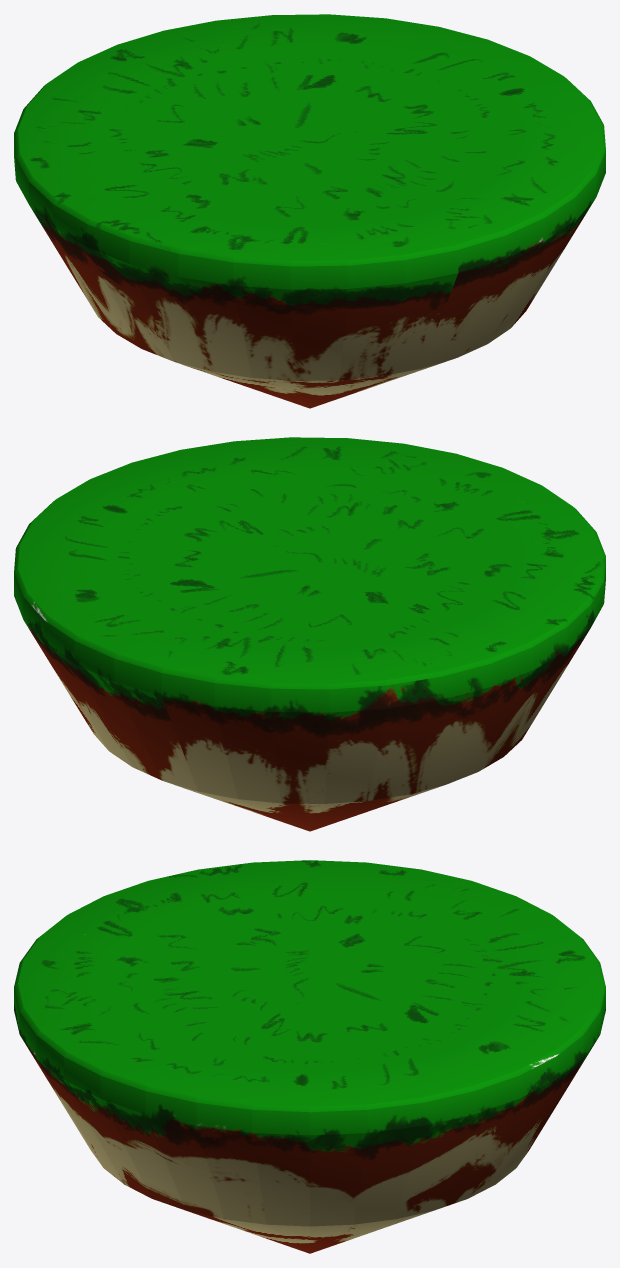
Rendered from map_sky_island.fbx.
3 renders of one model, top to bottom at view 1: azimuth 30°, elevation 25°; view 2: azimuth 150°, elevation 25°; view 3: azimuth 270°, elevation 25°, orthographic.
Parts seen in each view (by area): view 1: island_map; view 2: island_map; view 3: island_map.
Boxes of the visible parts, <box> form: island_map: <box>14,14,605,408</box>; island_map: <box>14,437,605,831</box>; island_map: <box>14,860,605,1253</box>.
Size of the model in its own units: 10000 by 5038 by 10000.
Materials: 1 (1 with a texture image).
